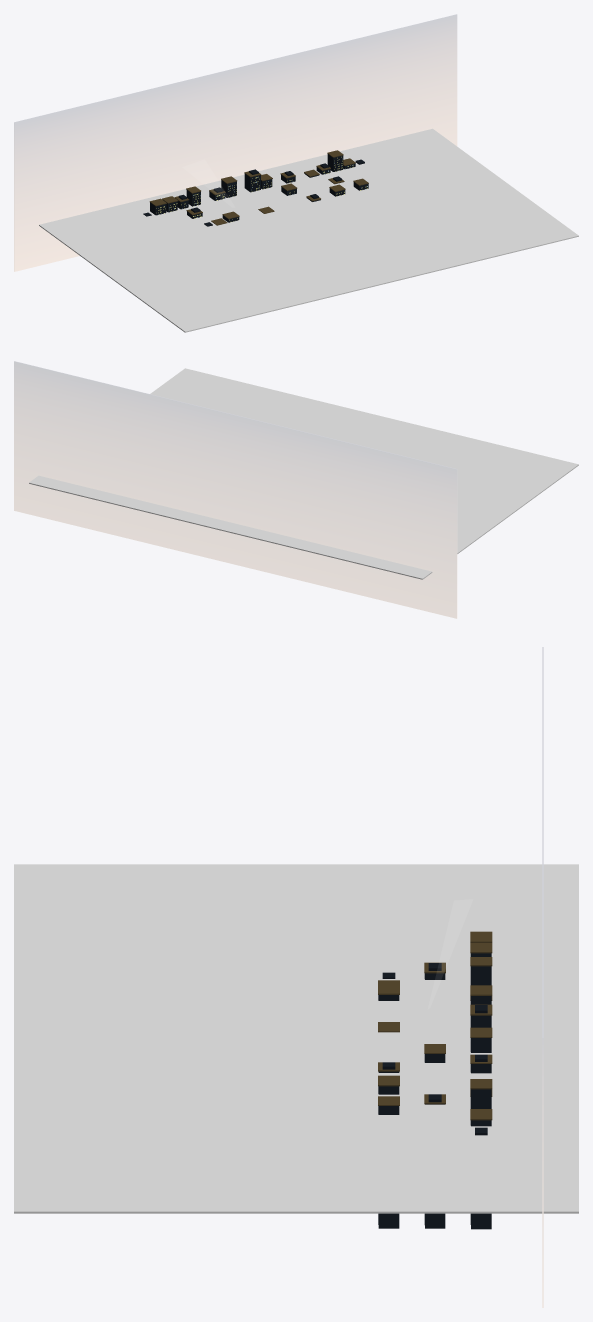
The model's file is skyline.glb.
3 views of the same model, one above another, from view 1: azimuth 30°, elevation 25°; view 2: azimuth 150°, elevation 25°; view 3: azimuth 270°, elevation 25° (orthographic). The views are drawn at different scales.
Visible parts, largest first — view 1: Ground contact / transparent shadow receiver.002, Sky gradient / editable material.002, World / terrain and architecture.002; view 2: Sky gradient / editable material.002, Ground contact / transparent shadow receiver.002; view 3: Ground contact / transparent shadow receiver.002, World / terrain and architecture.002, Sky gradient / editable material.002.
Part boxes in pixels (bbox=[...]): Ground contact / transparent shadow receiver.002: bbox=[39, 128, 578, 332]; Sky gradient / editable material.002: bbox=[14, 14, 457, 271]; World / terrain and architecture.002: bbox=[143, 150, 368, 226]; Sky gradient / editable material.002: bbox=[14, 361, 457, 618]; Ground contact / transparent shadow receiver.002: bbox=[29, 368, 578, 579]; Ground contact / transparent shadow receiver.002: bbox=[14, 864, 578, 1213]; World / terrain and architecture.002: bbox=[378, 931, 492, 1229]; Sky gradient / editable material.002: bbox=[542, 647, 543, 1307].
Size of the model in its own units: 180 by 62 by 110.
